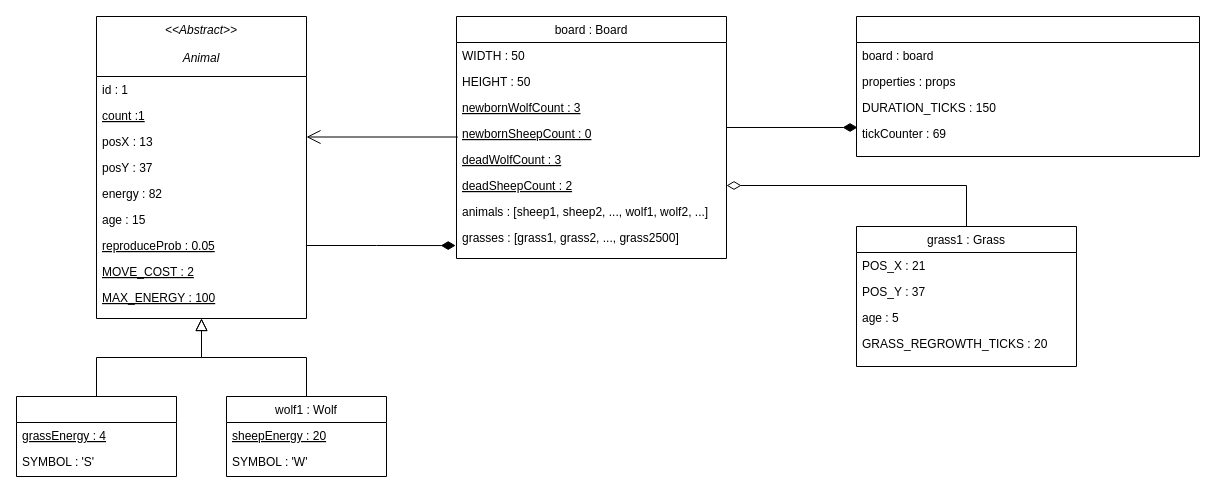
Some shapes in this 1216 by 493 pixel diagram are drawn without their labels. The box of each missing label's shape, as (x1, y1, x2, y2) in pixels:
sheep1 : Sheep: (16, 396, 176, 476)
simulation : Simulation: (856, 16, 1200, 156)
